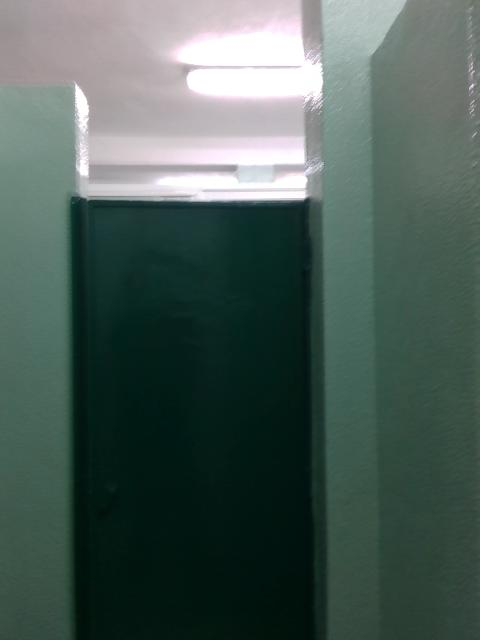door: (57, 197, 314, 634)
